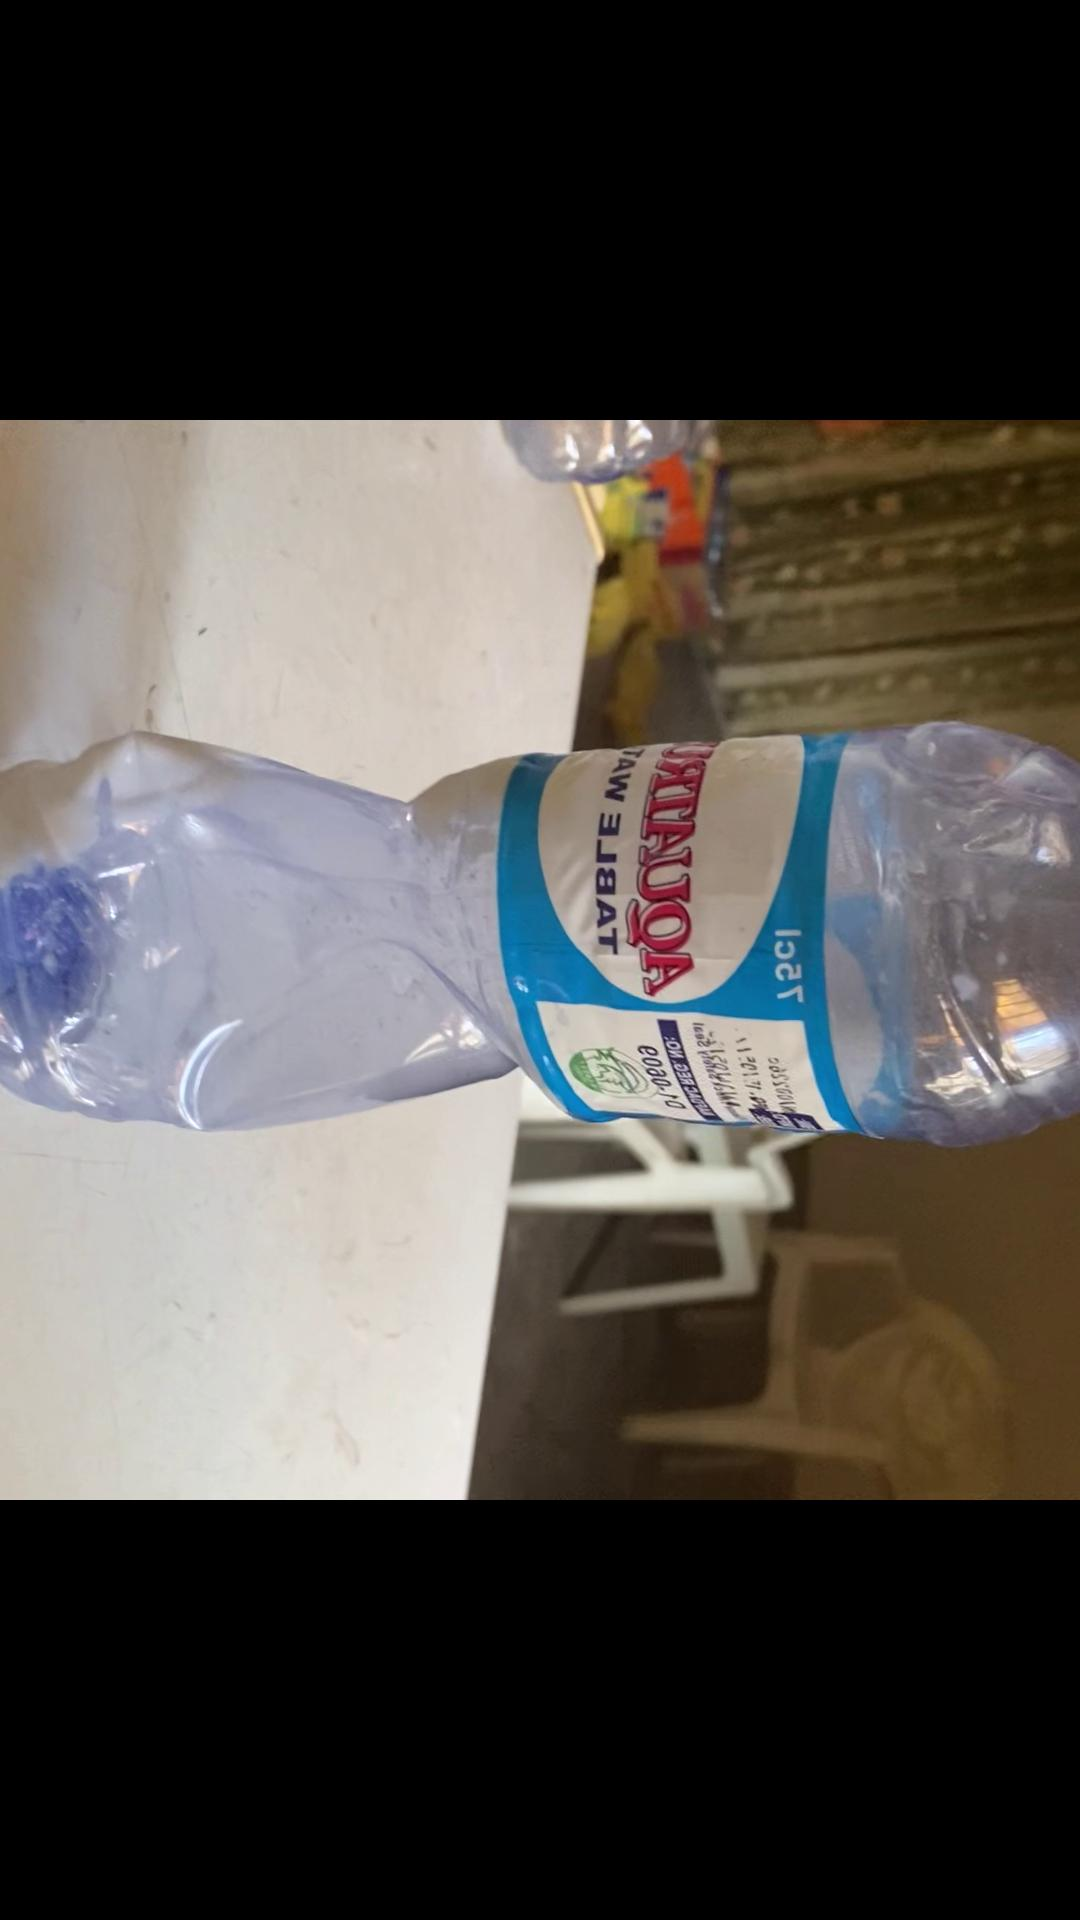label: (505, 737, 853, 1139)
no-cap: (0, 705, 1080, 1155)
